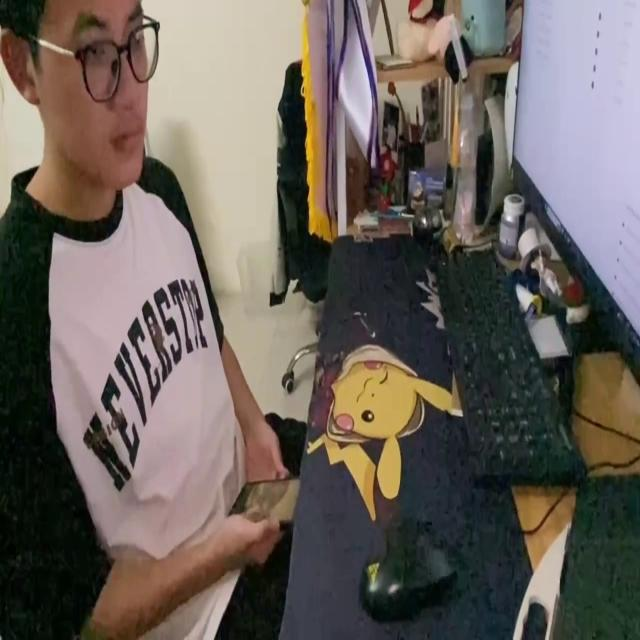laptop: (508, 0, 639, 389)
phone: (225, 472, 299, 528)
student: (0, 0, 300, 640)
